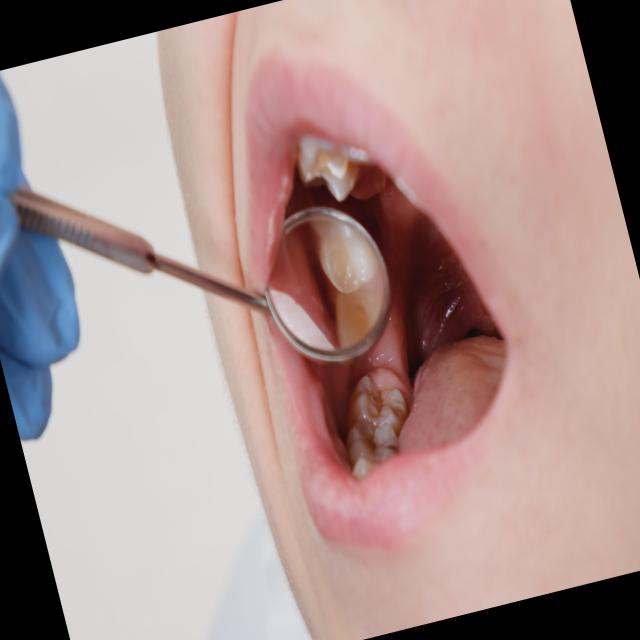Caries: (387, 445, 397, 451)
Cavity: (327, 249, 349, 288)
Tooth: (346, 376, 407, 437), (319, 237, 380, 292), (345, 420, 399, 465)
